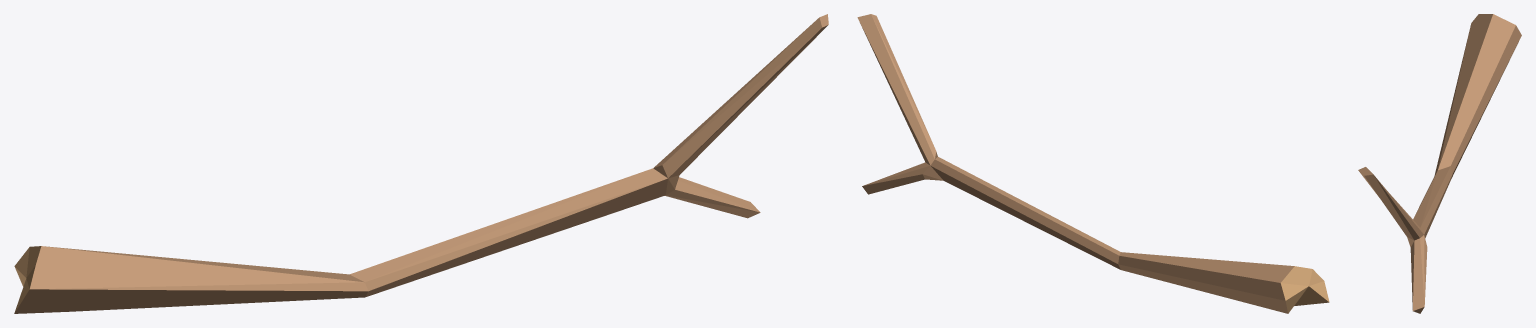
Rendered from trunk6.fbx.
The picture shows the model from 3 angles, left to right: view 1: azimuth 30°, elevation 25°; view 2: azimuth 150°, elevation 25°; view 3: azimuth 270°, elevation 25°; orthographic projection. The views are drawn at different scales.
Parts seen in each view (by area): view 1: trunk6; view 2: trunk6; view 3: trunk6.
Boxes of the visible parts, x1=… form: trunk6: x1=14, y1=14, x2=828, y2=313; trunk6: x1=857, y1=14, x2=1329, y2=313; trunk6: x1=1358, y1=14, x2=1521, y2=313.
Bounding box in the file's own units: 166 × 47.23 × 44.1.
